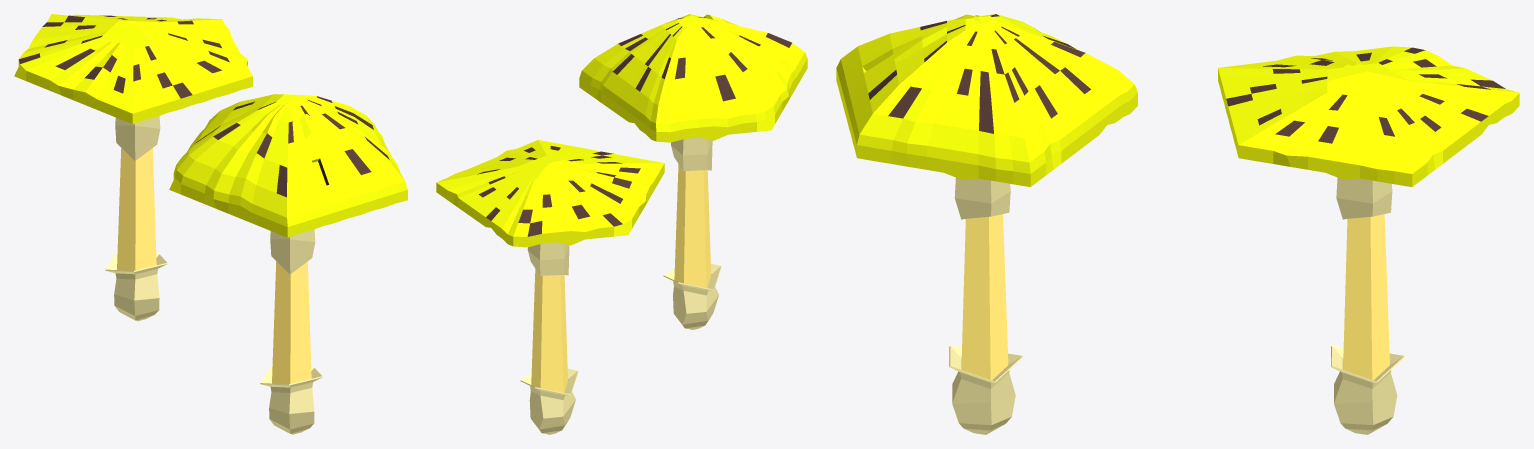
The model's file is trytthhhis_one.fbx.
The picture shows the model from 3 angles, left to right: view 1: azimuth 30°, elevation 25°; view 2: azimuth 150°, elevation 25°; view 3: azimuth 270°, elevation 25°; orthographic projection. The views are drawn at different scales.
Parts seen in each view (by area): view 1: deathcap, deathcap.001; view 2: deathcap, deathcap.001; view 3: deathcap, deathcap.001.
Boxes of the visible parts, box(x1,y1,x2,y2) form: deathcap: box(169, 94, 407, 434); deathcap.001: box(14, 14, 252, 321); deathcap: box(579, 14, 807, 329); deathcap.001: box(436, 140, 664, 434); deathcap: box(836, 14, 1137, 434); deathcap.001: box(1218, 46, 1519, 434).
Bounding box in the file's own units: 72.25 × 111 × 167.
